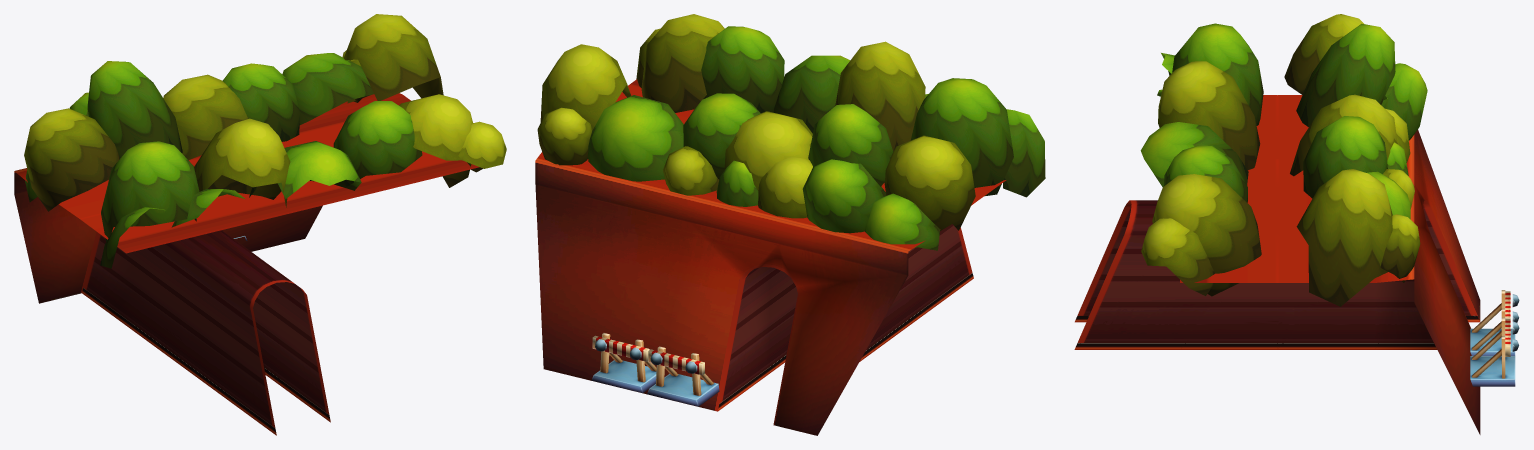
The model's file is tunnel_3.glb.
3 views of the same model, side by side, from view 1: azimuth 30°, elevation 25°; view 2: azimuth 150°, elevation 25°; view 3: azimuth 270°, elevation 25° (orthographic). The views are drawn at different scales.
Parts seen in each view (by area): view 1: Object_2; view 2: Object_2; view 3: Object_2.
Boxes of the visible parts, x1=… form: Object_2: x1=14, y1=14, x2=506, y2=435; Object_2: x1=535, y1=14, x2=1045, y2=435; Object_2: x1=1074, y1=14, x2=1519, y2=434.
Bounding box in the file's own units: 152 × 96.9 × 137.
1 material, 1 textured.
